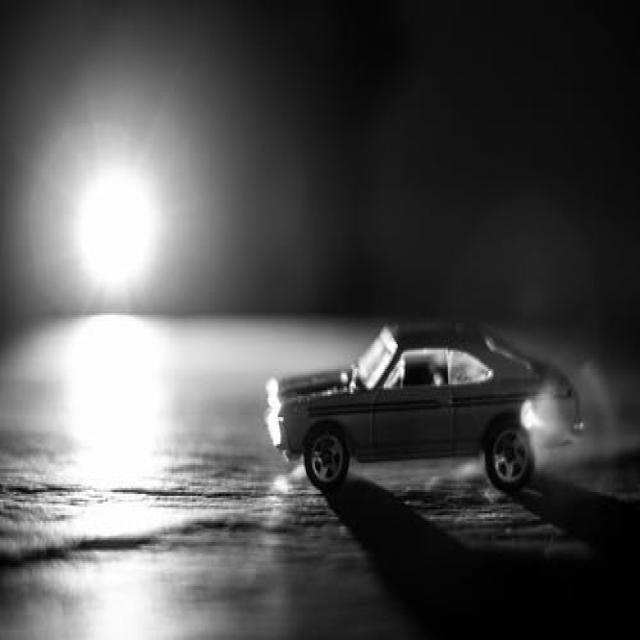Car: (265, 315, 582, 496)
